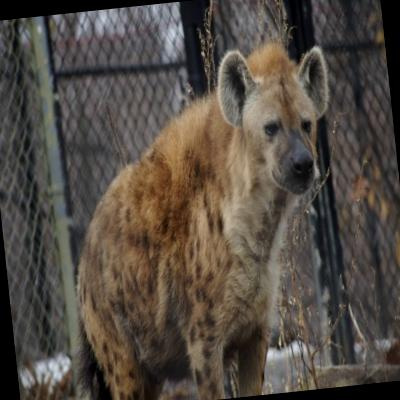hyenas: (17, 21, 388, 400)
